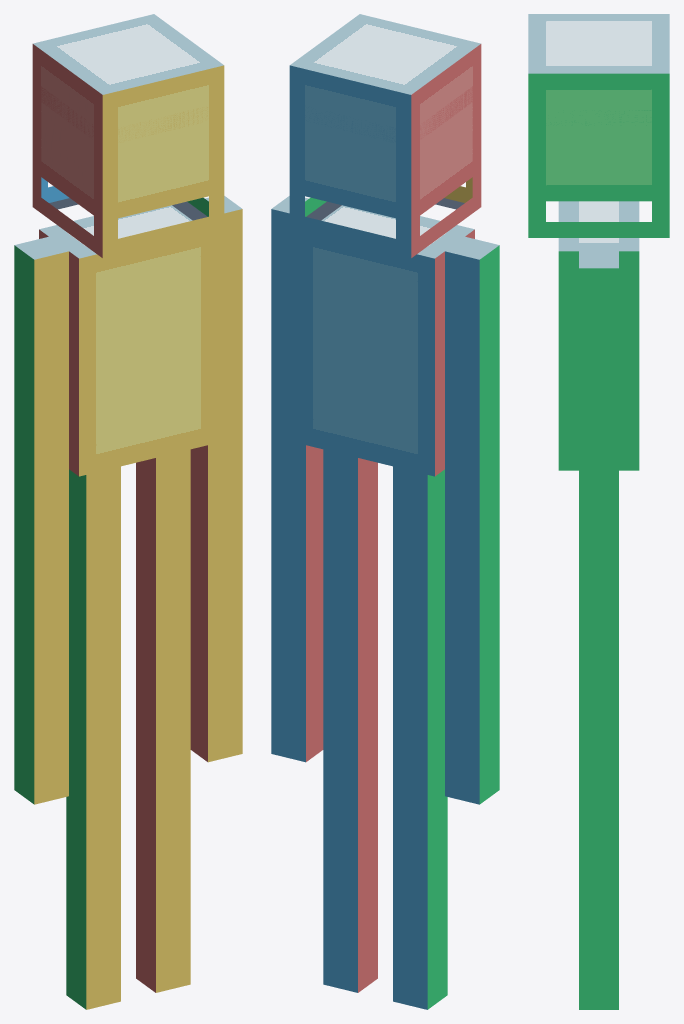
Rendered from enderman.obj.
3 renders of one model, left to right at view 1: azimuth 30°, elevation 25°; view 2: azimuth 150°, elevation 25°; view 3: azimuth 270°, elevation 25°, orthographic.
Parts seen in each view (by area): view 1: Body, Head, LeftArm, RightLeg, LeftLeg, RightArm, Head layer; view 2: Body, Head, LeftArm, RightLeg, LeftLeg, RightArm, Head layer; view 3: Head, RightArm, Body, RightLeg, Head layer.
Part boxes in pixels (<box>): Body: <box>39,205,217,476</box>; Head: <box>32,14,224,221</box>; LeftArm: <box>14,236,68,804</box>; RightLeg: <box>136,449,190,992</box>; LeftLeg: <box>66,466,120,1009</box>; RightArm: <box>190,196,242,762</box>; Head layer: <box>32,80,224,258</box>; Body: <box>296,205,474,476</box>; Head: <box>289,14,481,221</box>; LeftArm: <box>445,236,499,804</box>; RightLeg: <box>323,449,377,992</box>; LeftLeg: <box>393,466,447,1009</box>; RightArm: <box>271,196,323,762</box>; Head layer: <box>289,80,481,258</box>; Head: <box>528,14,669,201</box>; RightArm: <box>579,251,618,816</box>; Body: <box>558,201,639,470</box>; RightLeg: <box>579,816,618,1009</box>; Head layer: <box>528,110,669,237</box>.
Size of the model in its own units: 0.75 by 3.22 by 0.4375.
Materials: 1 (1 with a texture image).
